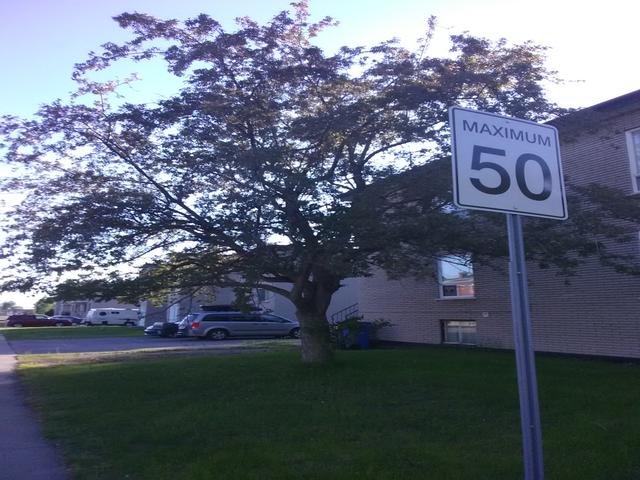vitesse: (447, 104, 574, 222)
